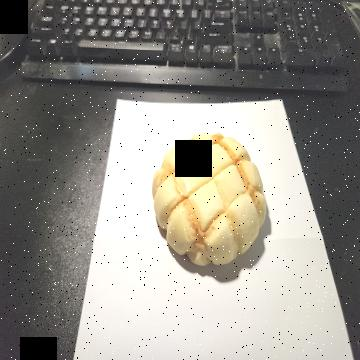melon_bread: (151, 131, 267, 268)
